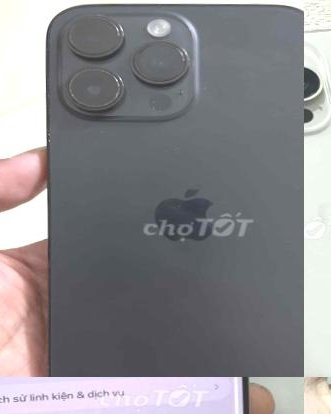screen_defect: (204, 377, 273, 414), (0, 377, 18, 414)
